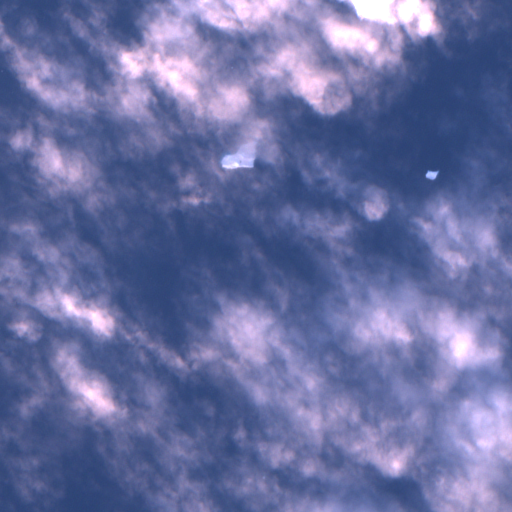Iceberg: (221, 142, 254, 168), (425, 170, 438, 179)
